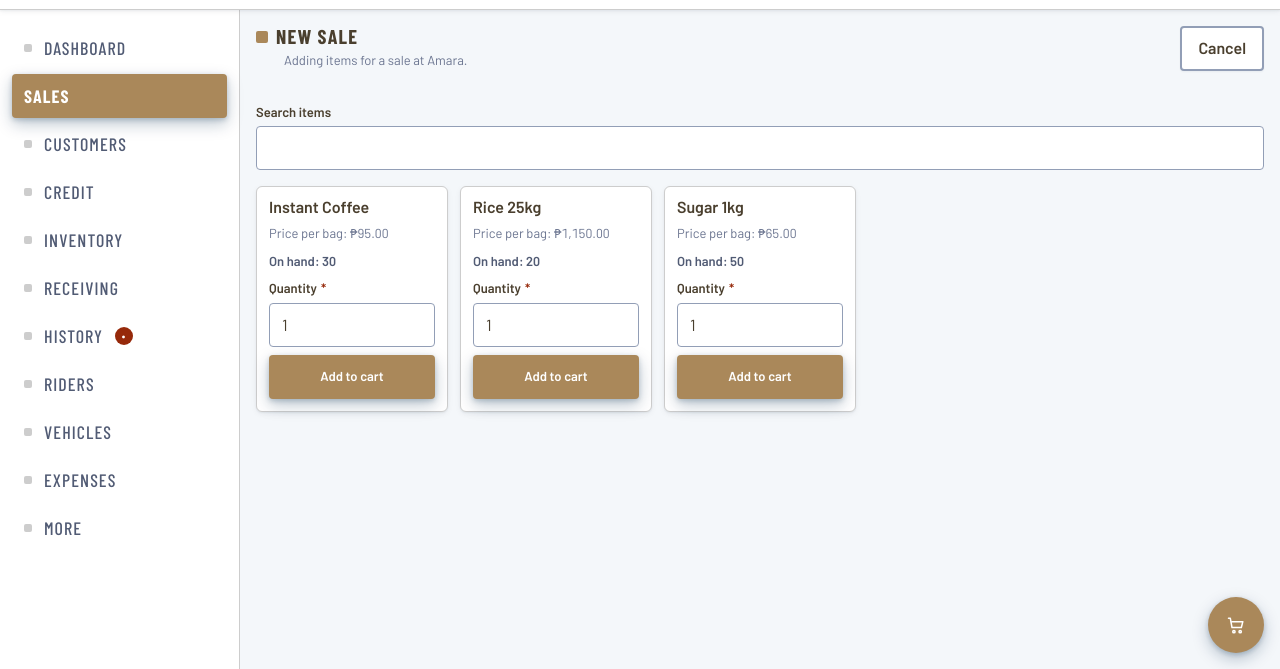
Test: NewSalePage › opens the cart page when the basket is clicked
The image size is (1280, 669).
Click the button "Add to cart" below "On hand: 20": (556, 377) [473,355,639,399]
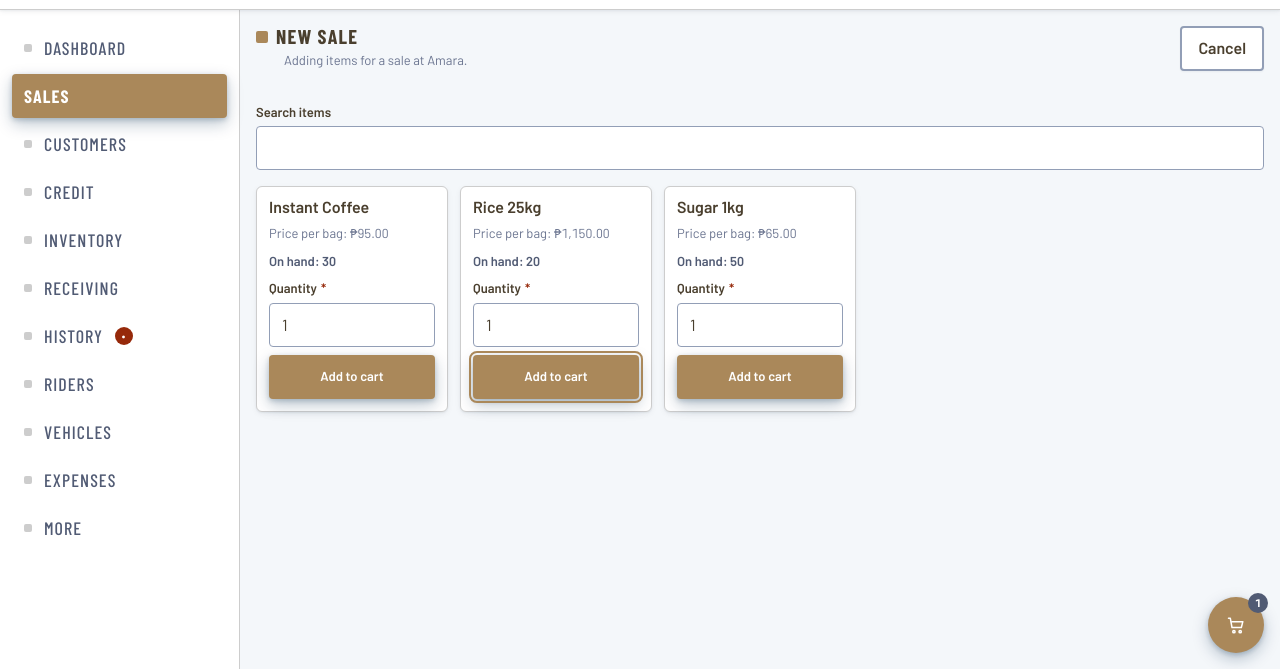
Click the button named "Open cart": (1236, 625) [1208,597,1264,653]
(page scrolled)
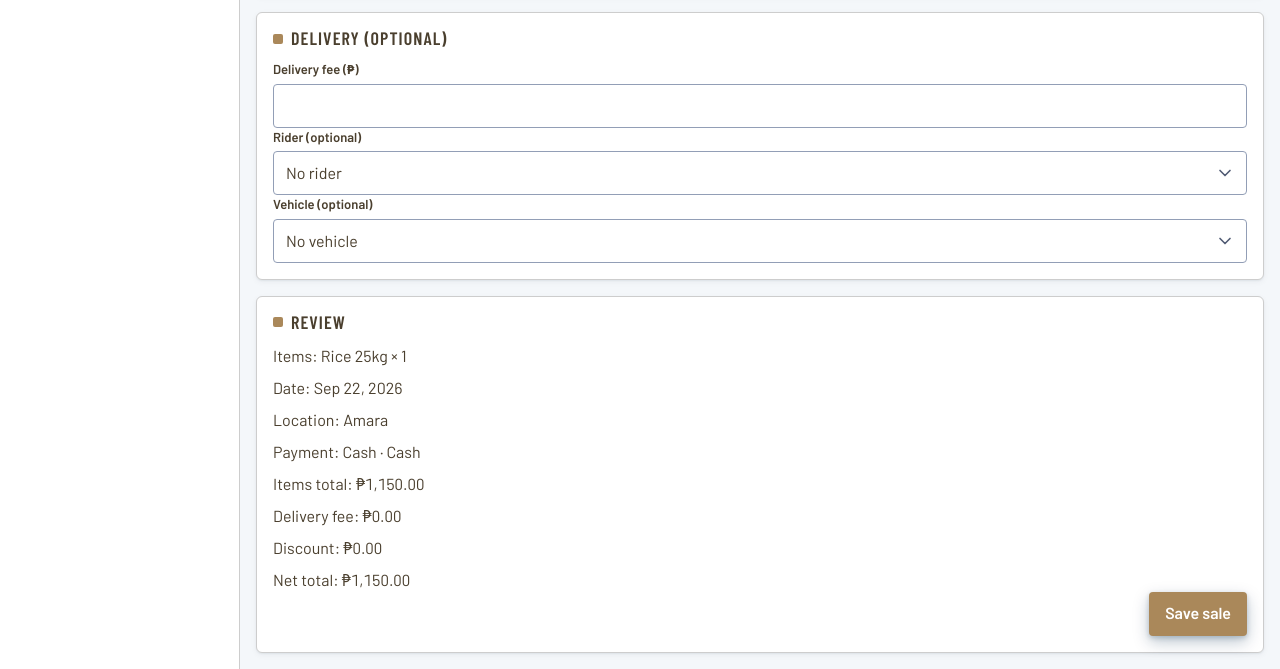
Check: the button "Save sale" is shown, box [1149,592,1247,636]
